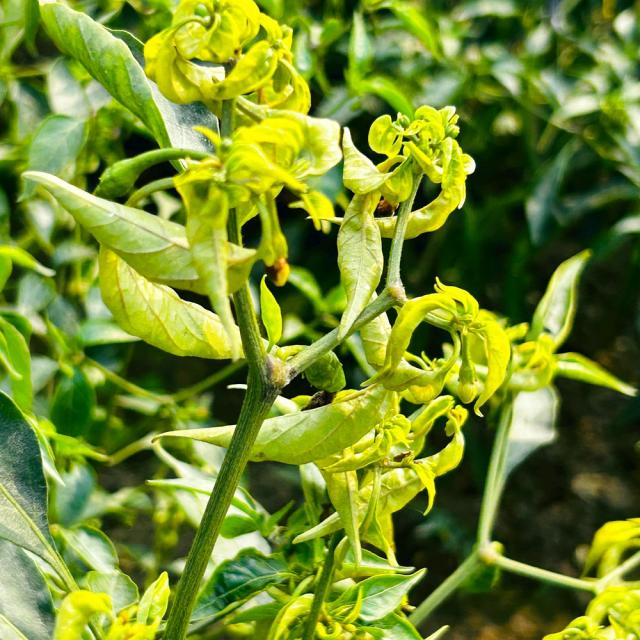Chilli_Leaf_Curl: (16, 1, 516, 638), (35, 0, 220, 166), (19, 168, 257, 297), (363, 276, 511, 416), (152, 382, 394, 467), (341, 103, 476, 240), (94, 242, 239, 362)
